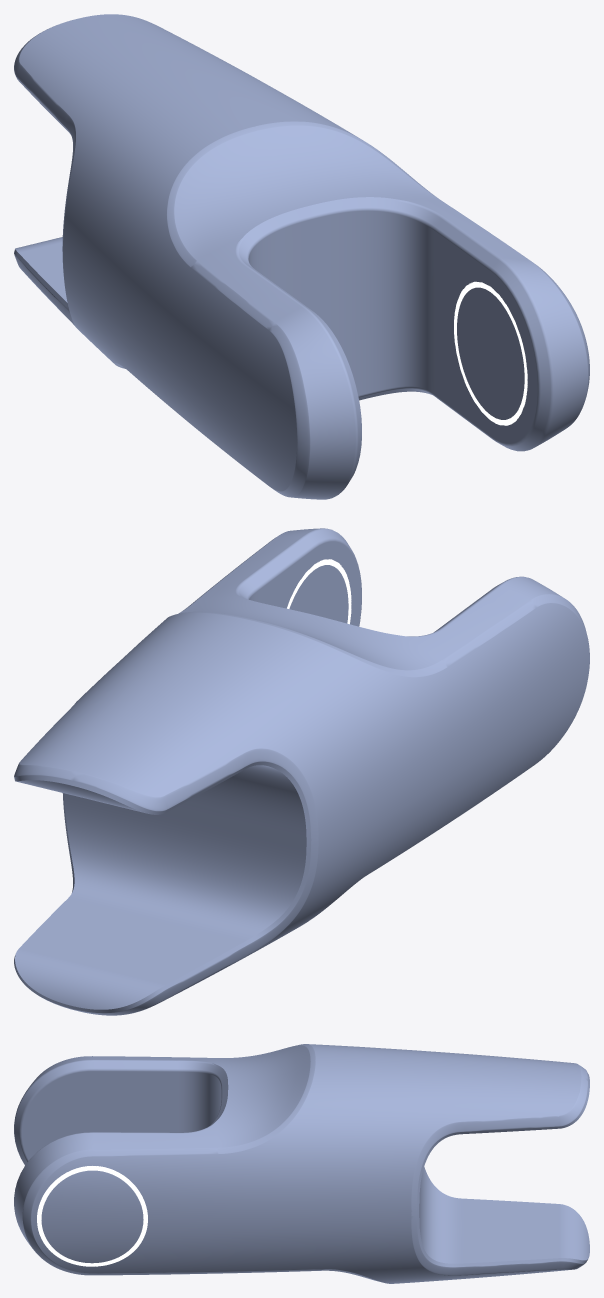
The model's file is 小原子左大腿.glb.
3 views of the same model, one above another, from view 1: azimuth 30°, elevation 25°; view 2: azimuth 150°, elevation 25°; view 3: azimuth 270°, elevation 25° (orthographic). The views are drawn at different scales.
Bounding box in the file's own units: 0.1102 × 0.0995 × 0.2493.
